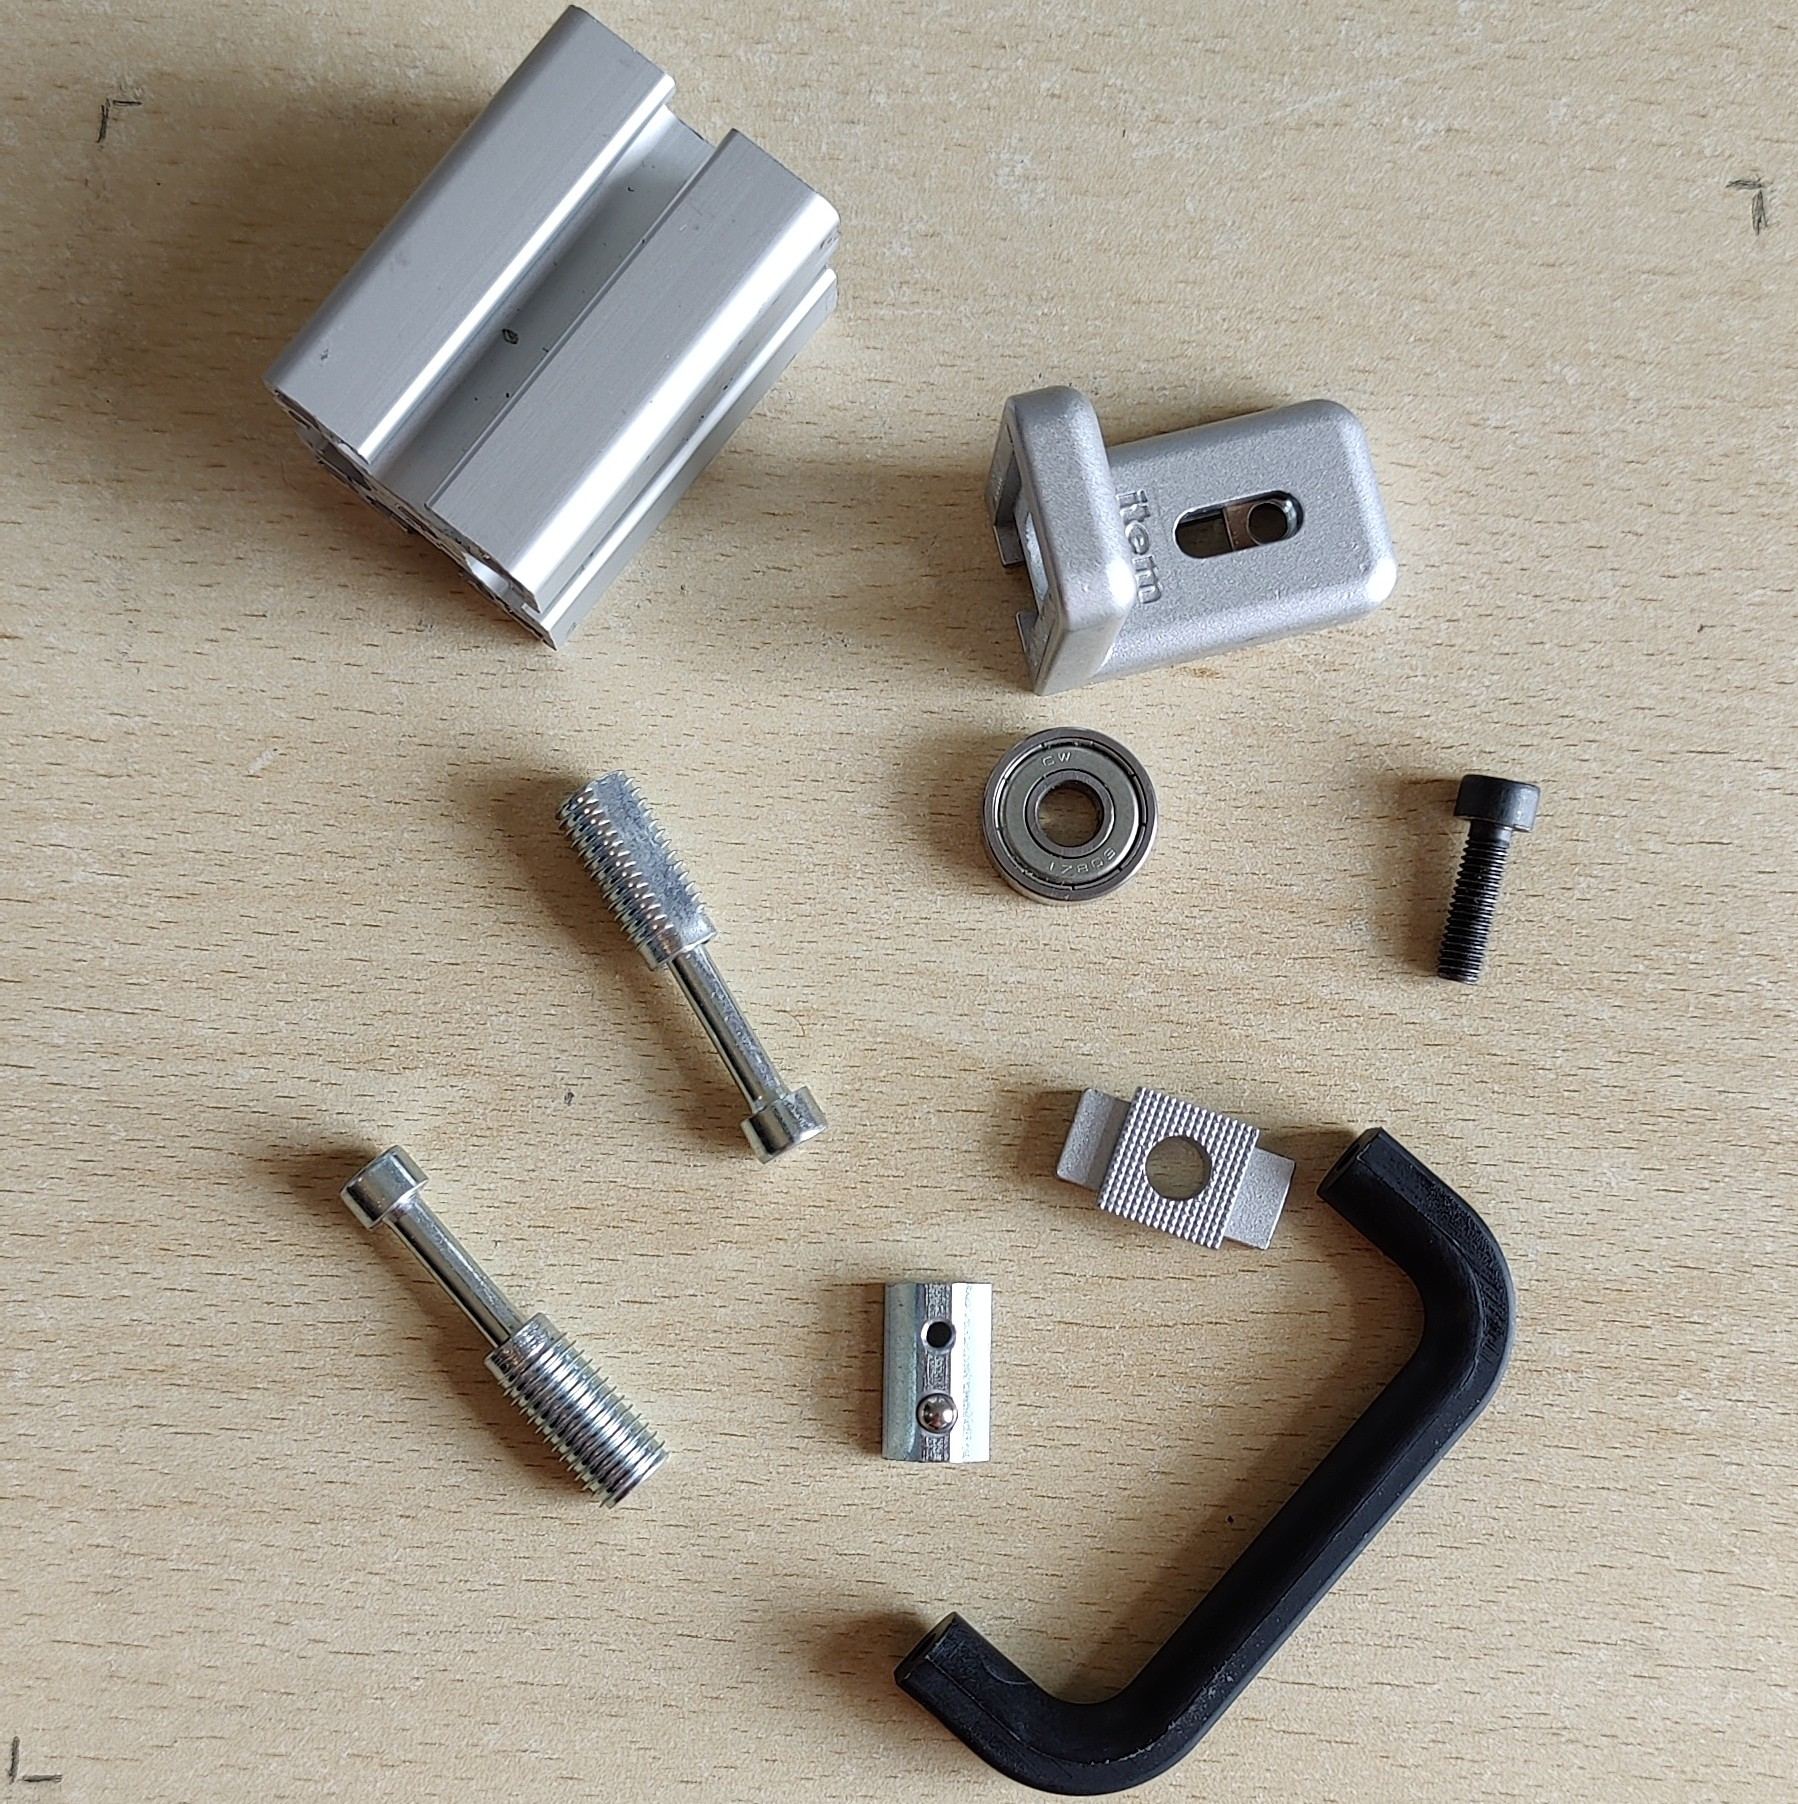Aluminium Extension: (257, 2, 845, 655)
Ball Bearing: (976, 726, 1159, 909)
Multiwinkel: (980, 382, 1401, 698)
Pull Handle: (891, 1123, 1520, 1801)
Shoulder Socket Head Cap Screw: (333, 1141, 670, 1513), (553, 765, 830, 1169)
Socket Head Cap Screw: (1431, 770, 1544, 989)
T Nut Square: (1054, 1081, 1301, 1254)
T Spring Nut: (878, 1281, 998, 1467)
